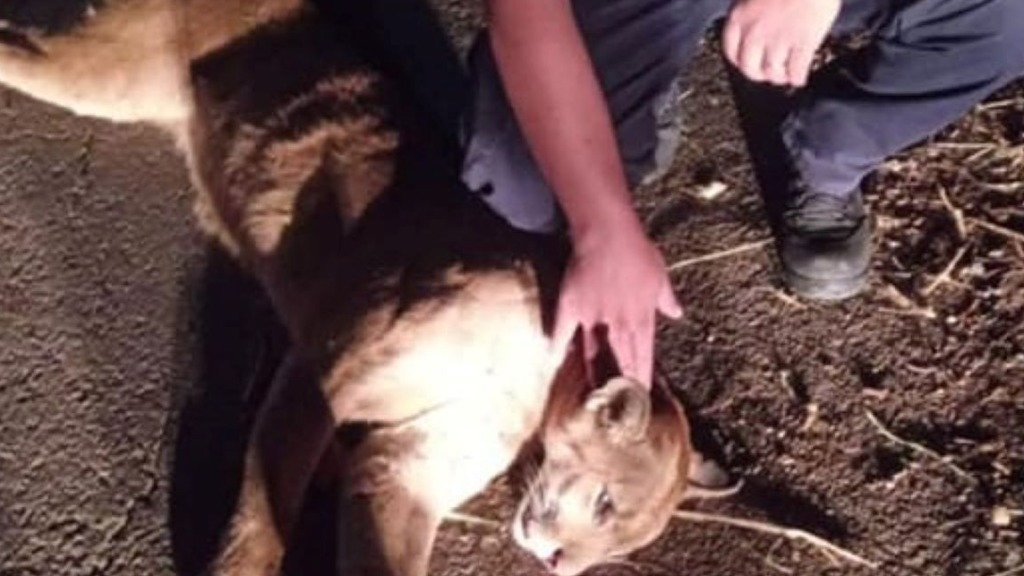OncaParda: (27, 1, 747, 556)
